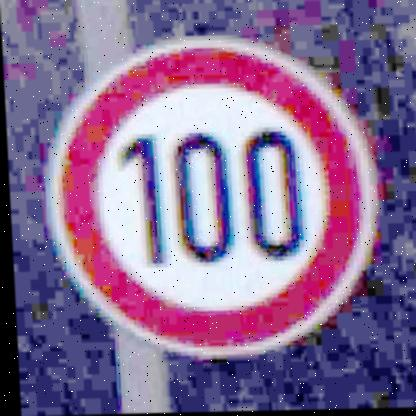Speed Limit -100-: (43, 36, 380, 363)
